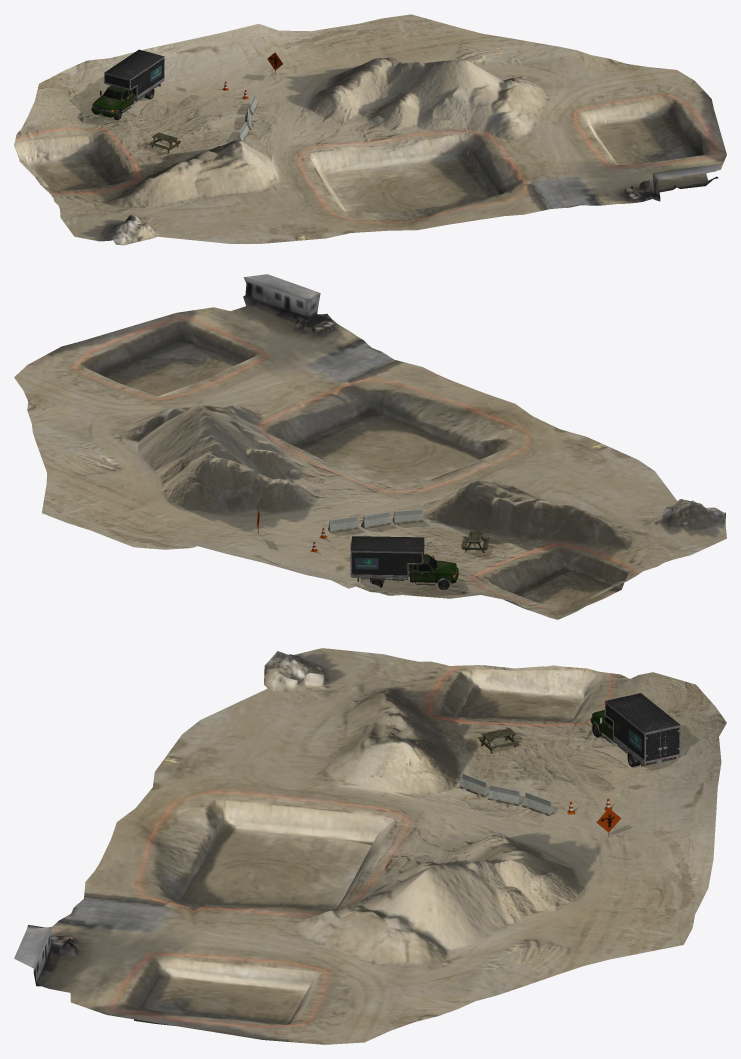
3 renders of one model, top to bottom at view 1: azimuth 30°, elevation 25°; view 2: azimuth 150°, elevation 25°; view 3: azimuth 270°, elevation 25°, orthographic. The views are drawn at different scales.
Parts seen in each view (by area): view 1: mesh_LP_geo.001, group2.001, road_divider4.001; view 2: mesh_LP_geo.001, group2.001, road_divider4.001; view 3: mesh_LP_geo.001, group2.001, road_divider4.001.
Boxes of the visible parts, bbox=[...] form: mesh_LP_geo.001: bbox=[14, 14, 726, 245]; group2.001: bbox=[91, 49, 164, 120]; road_divider4.001: bbox=[149, 94, 258, 153]; mesh_LP_geo.001: bbox=[14, 274, 726, 619]; group2.001: bbox=[350, 536, 458, 589]; road_divider4.001: bbox=[328, 509, 489, 552]; mesh_LP_geo.001: bbox=[14, 648, 726, 1044]; group2.001: bbox=[590, 693, 680, 766]; road_divider4.001: bbox=[459, 728, 554, 816].
Size of the model in its own units: 49.73 by 4.63 by 37.29.
4 materials, 4 textured.
